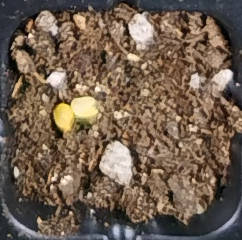pepper seed: (20, 35, 121, 153), (15, 35, 91, 169)
